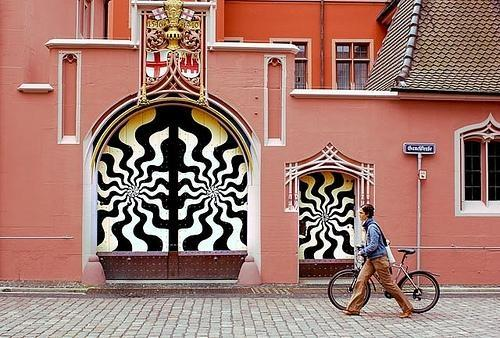bicycle: (328, 244, 444, 314)
